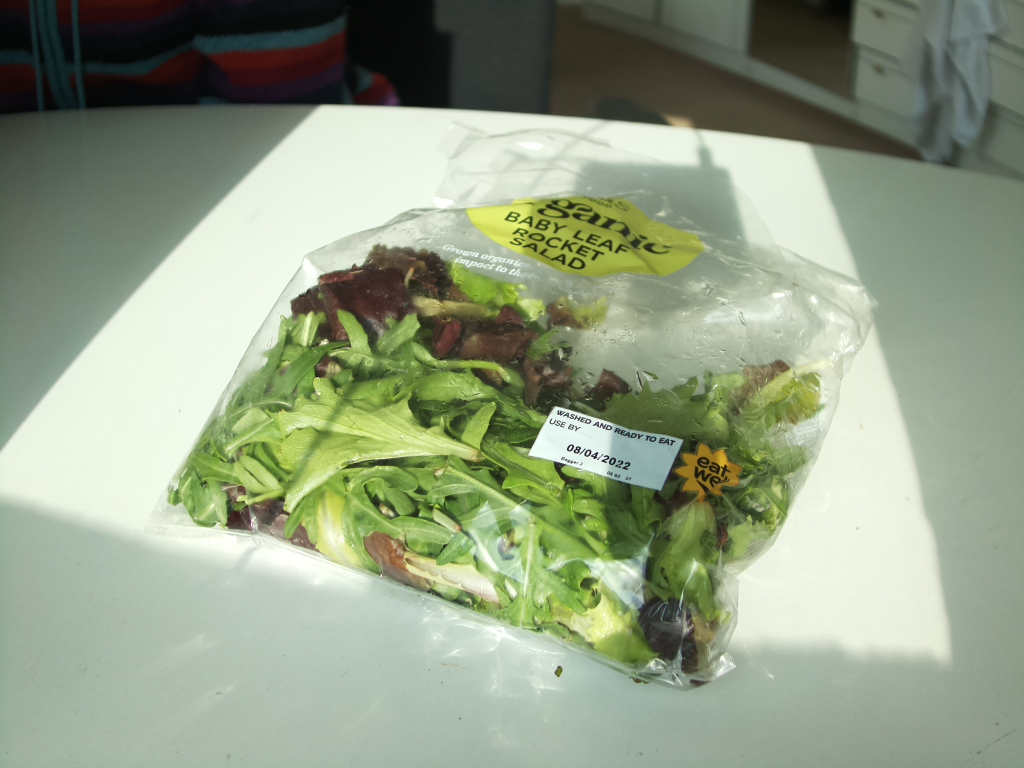salad: (168, 242, 838, 687)
